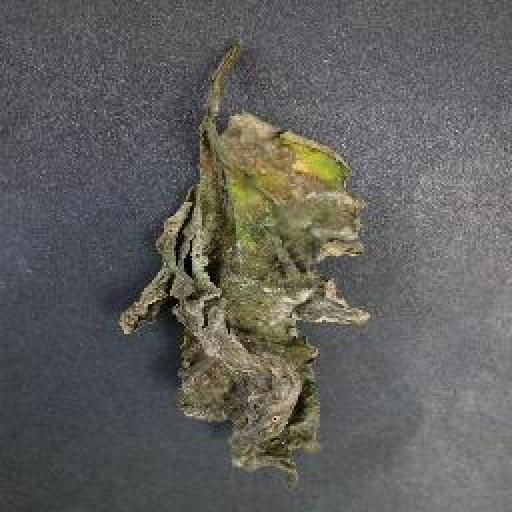disease_tomato: (116, 112, 370, 486)
